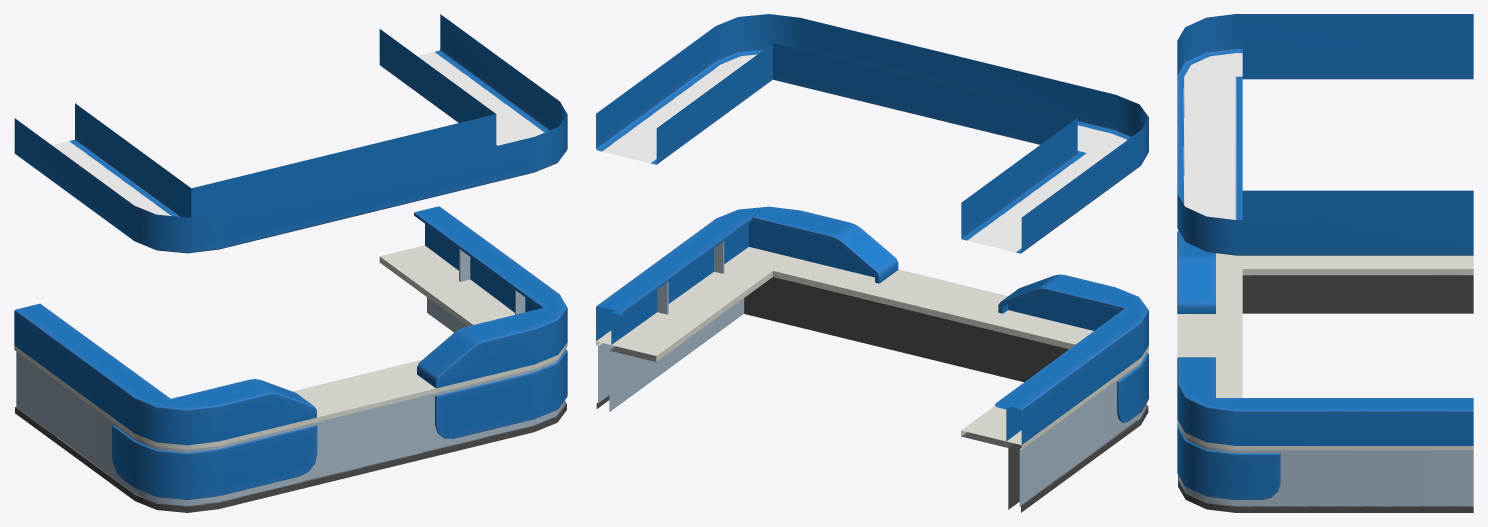
Rendered from ReceptionTable.fbx.
The picture shows the model from 3 angles, left to right: view 1: azimuth 30°, elevation 25°; view 2: azimuth 150°, elevation 25°; view 3: azimuth 270°, elevation 25°; orthographic projection.
Visible parts, largest first — view 1: ReceptionTable1; view 2: ReceptionTable1; view 3: ReceptionTable1.
Part boxes in pixels (x1,y1,x2,y2): ReceptionTable1: (14,14,567,512); ReceptionTable1: (596,14,1148,512); ReceptionTable1: (1177,14,1473,512).
Bounding box in the file's own units: 502 × 333 × 305.
1 material, 1 textured.
